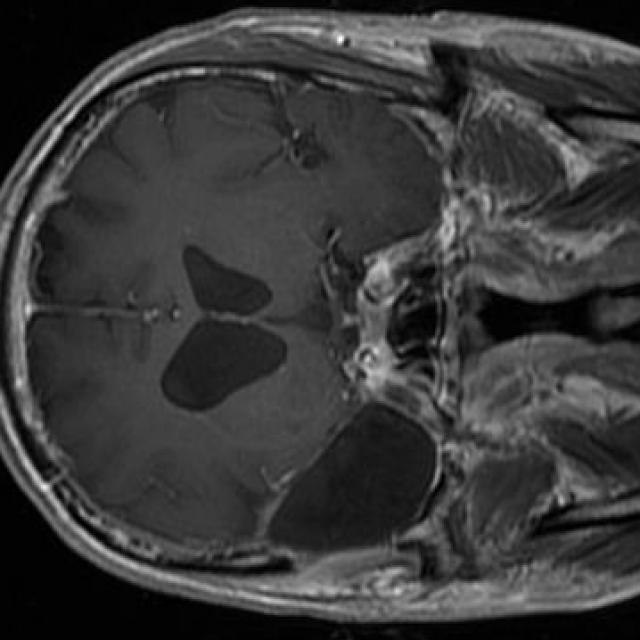glioma: (264, 383, 442, 554)
